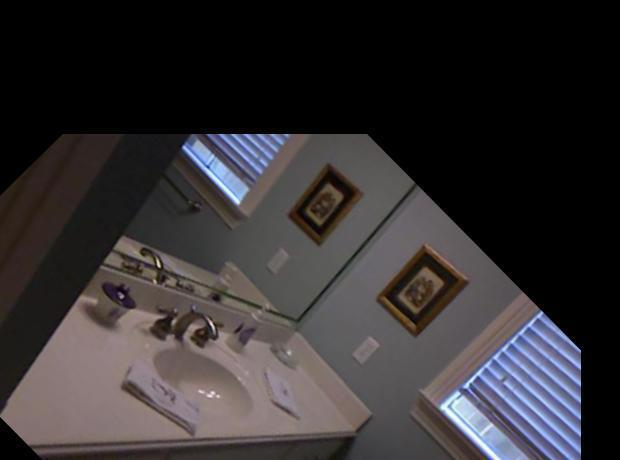Lavamanos: (113, 280, 287, 455)
